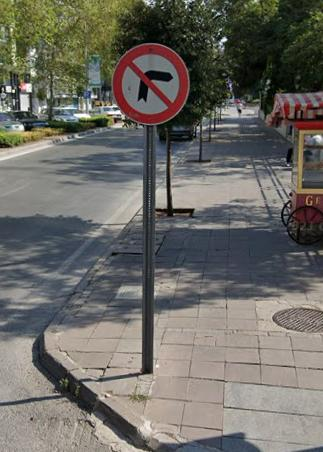rightturnsareforbidden: (116, 51, 187, 128)
